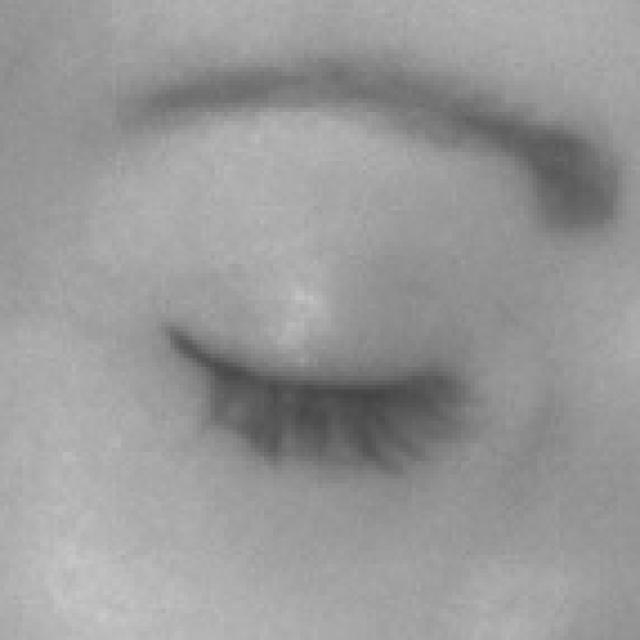close: (0, 47, 640, 614)
